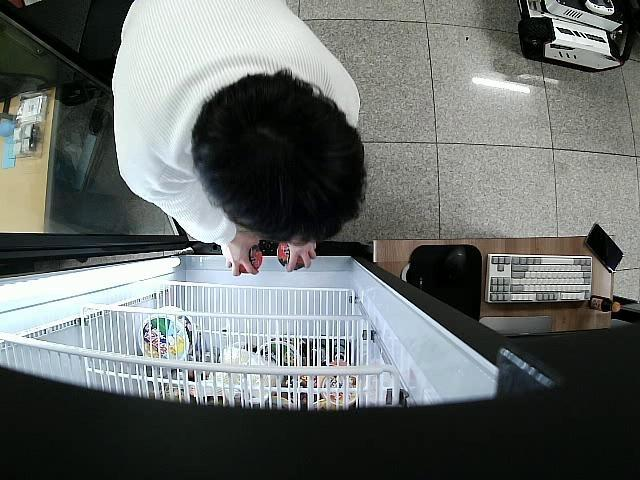02_shinRamen_S: (228, 243, 261, 274), (279, 240, 306, 272)
